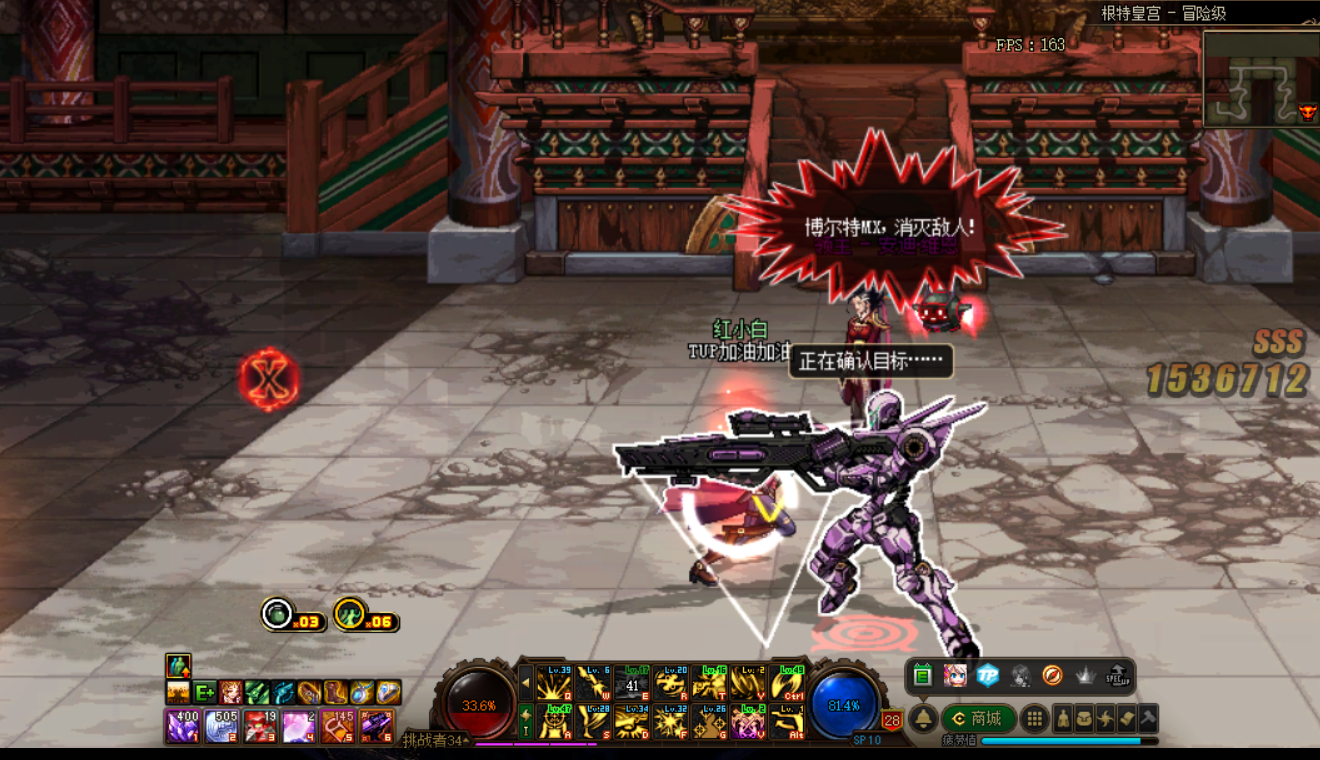boss: (618, 381, 983, 670), (820, 263, 929, 454)
warrior: (643, 400, 803, 576)
